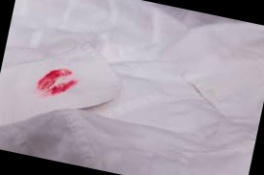lipstick: (36, 64, 82, 103)
